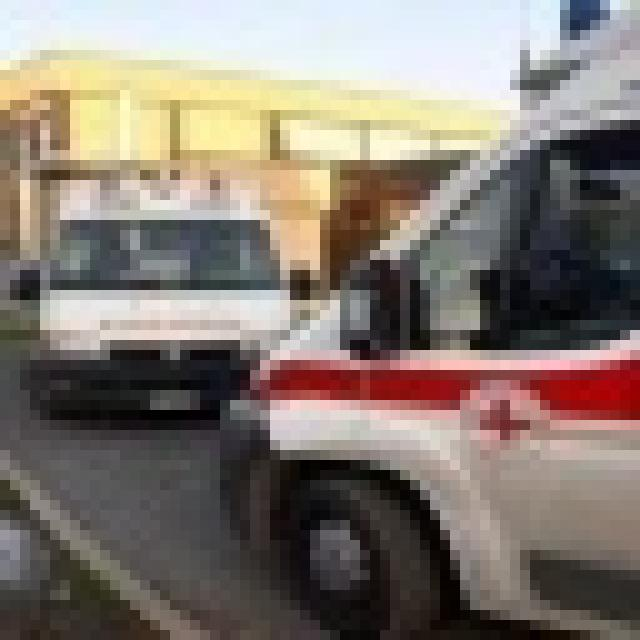Ambulance: (210, 0, 630, 630)
